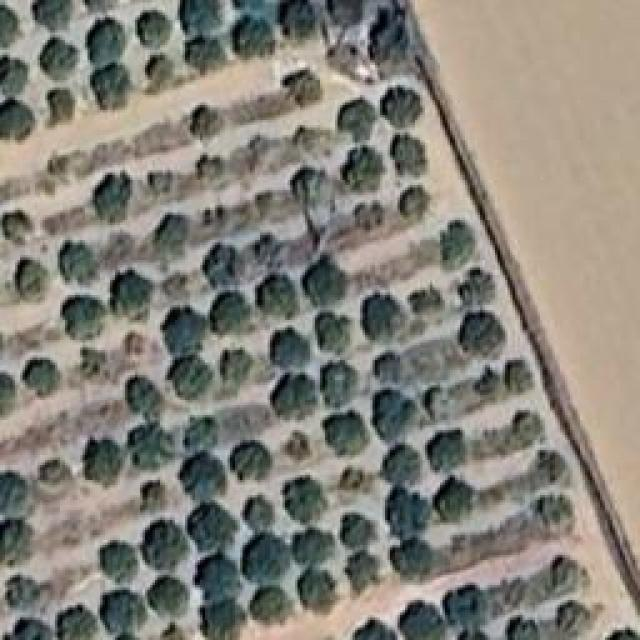Tree: (364, 3, 417, 65), (190, 547, 244, 601), (375, 78, 425, 136), (240, 533, 298, 582), (390, 532, 442, 583), (267, 378, 321, 425), (125, 415, 173, 467), (280, 473, 327, 526), (233, 10, 279, 64), (325, 408, 371, 462), (178, 37, 235, 80), (98, 588, 148, 637), (110, 270, 156, 323), (140, 520, 186, 573), (60, 290, 107, 341), (458, 315, 510, 361), (293, 565, 337, 619), (185, 503, 236, 549), (163, 358, 214, 404), (202, 592, 250, 640), (420, 430, 467, 479), (177, 455, 230, 498), (360, 295, 406, 344), (433, 477, 479, 526), (157, 310, 208, 354), (148, 570, 194, 618), (345, 145, 390, 194), (437, 223, 483, 270), (382, 488, 428, 535), (200, 245, 251, 287), (393, 130, 434, 182), (253, 270, 300, 315), (92, 170, 135, 219), (80, 443, 125, 489), (370, 388, 415, 434), (265, 323, 312, 367), (302, 258, 345, 306), (325, 363, 367, 412), (90, 65, 135, 110), (82, 20, 125, 65), (337, 98, 383, 140), (95, 538, 137, 584), (445, 587, 491, 629), (275, 0, 318, 44), (208, 293, 251, 337), (283, 65, 323, 112), (248, 582, 295, 622), (378, 446, 427, 484), (20, 355, 63, 398), (230, 432, 273, 475), (240, 492, 283, 535), (508, 398, 551, 441), (58, 242, 99, 287), (150, 165, 196, 205), (0, 102, 38, 150), (400, 603, 449, 640), (38, 33, 79, 76), (0, 468, 35, 518), (285, 523, 331, 561), (335, 505, 377, 546), (55, 605, 103, 640), (533, 442, 570, 487), (540, 487, 577, 532), (0, 512, 30, 567), (0, 54, 32, 104), (183, 103, 224, 142), (125, 375, 163, 417), (462, 270, 504, 308), (288, 165, 330, 203), (548, 548, 585, 591), (392, 180, 432, 219), (13, 258, 53, 297), (320, 313, 358, 354), (365, 345, 403, 386), (37, 88, 80, 124), (0, 207, 41, 244), (33, 453, 74, 490), (144, 57, 180, 99), (280, 423, 323, 458), (32, 0, 79, 32), (188, 147, 226, 186), (337, 548, 374, 588), (405, 283, 447, 318), (175, 0, 220, 32), (220, 350, 255, 391), (3, 575, 38, 614), (340, 455, 374, 495), (500, 353, 536, 390), (10, 610, 57, 638), (560, 595, 591, 637), (135, 13, 173, 47), (155, 214, 192, 248), (252, 238, 289, 272), (180, 416, 219, 448), (352, 198, 389, 231), (426, 385, 458, 423), (140, 475, 174, 508), (327, 0, 365, 28), (0, 0, 22, 45), (0, 365, 19, 414), (505, 615, 540, 640), (473, 366, 500, 398), (352, 620, 390, 640)
